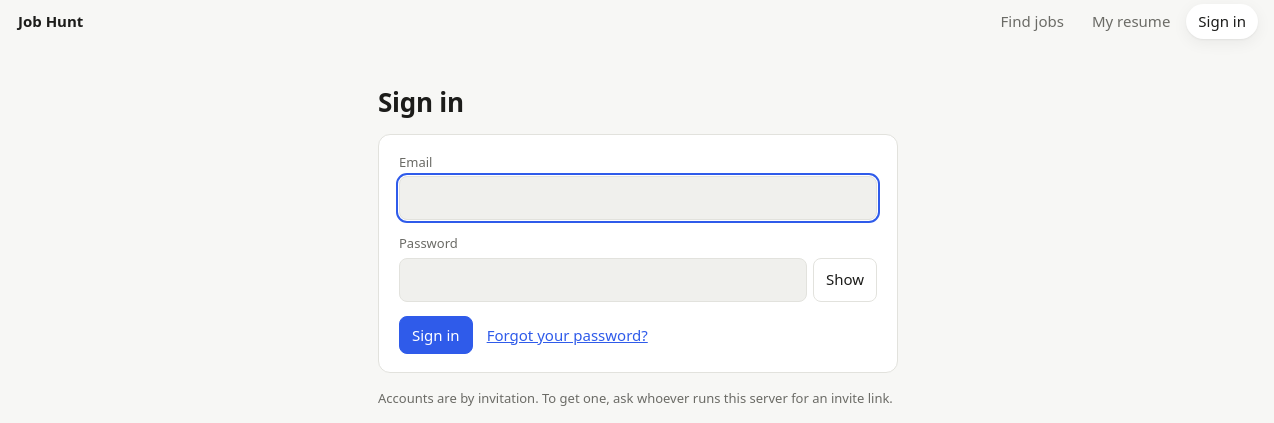
signing in › keeps the password hidden unless the person asks to see it
The image size is (1274, 423).
Step 1. Type "secret words" into the password field labelled "Password" → (603, 280), box [399, 258, 807, 302]
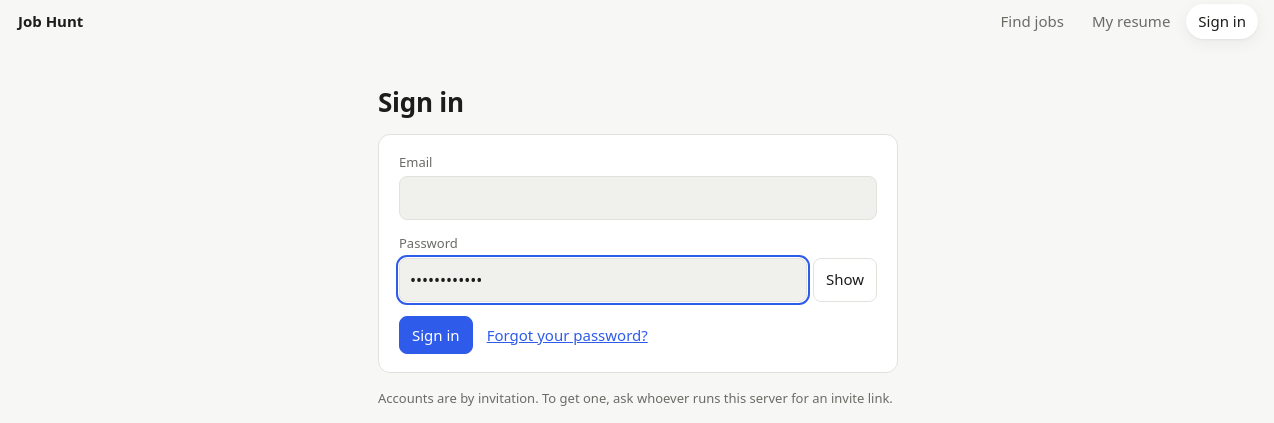
Step 2. Click the button with aria-label "Show password" → (845, 280), box [813, 258, 877, 302]
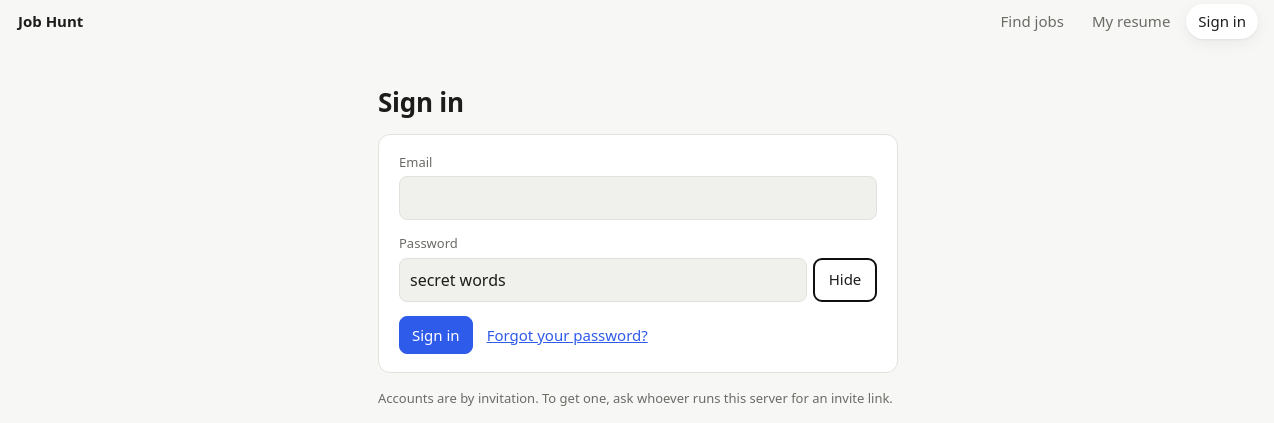
Expected: the field labelled "Password" shows its text, [399, 258, 807, 302]
Step 3. Click the button with aria-label "Hide password" → (845, 280), box [813, 258, 877, 302]
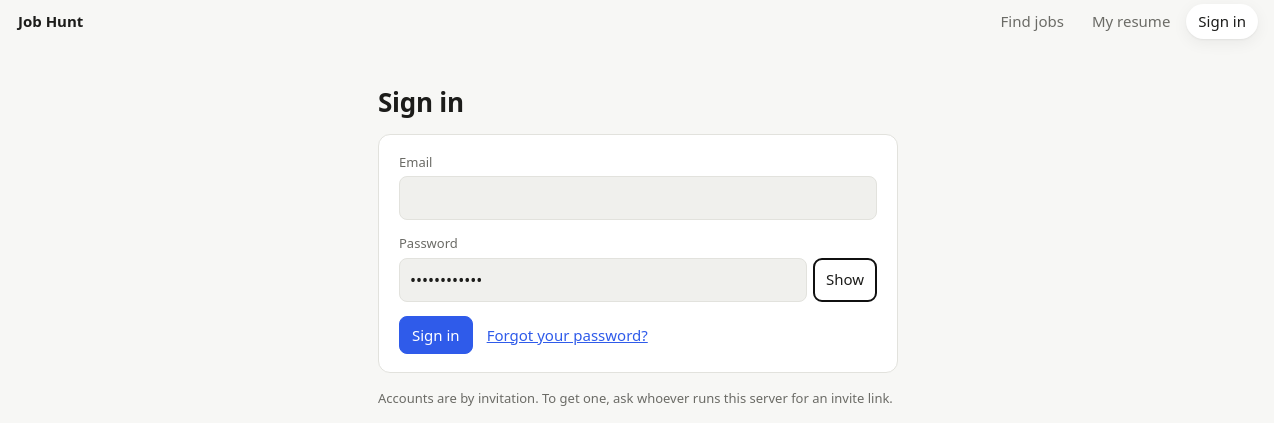
Expected: the password field labelled "Password" hides its text, [399, 258, 807, 302]
